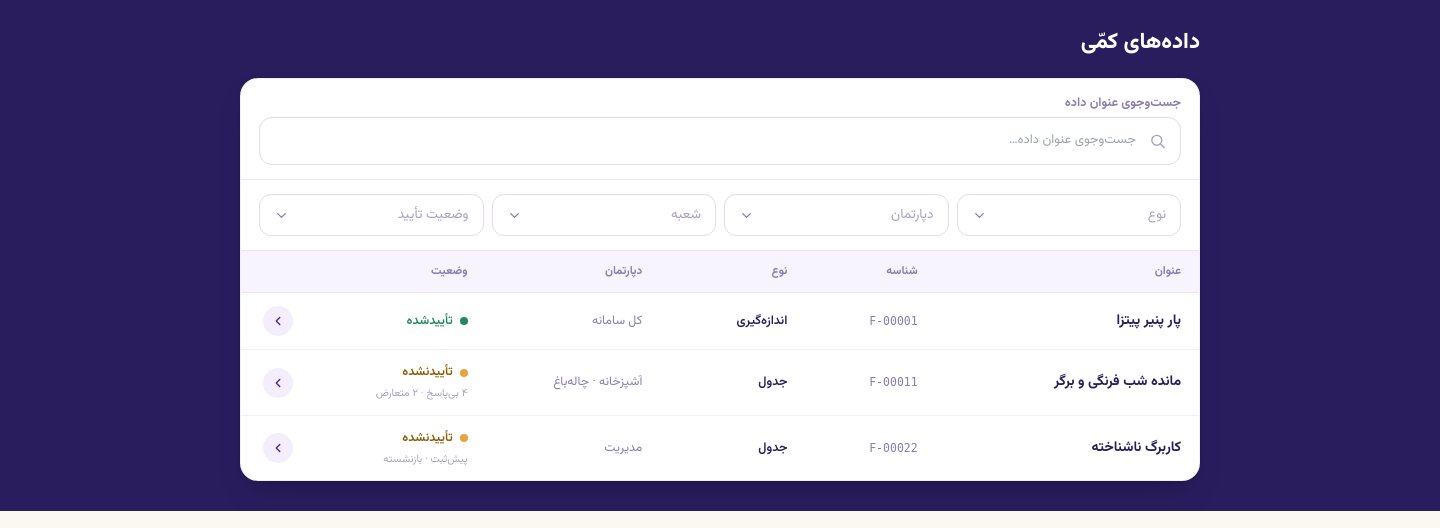
the filters › offers the four kinds and no item — the store has none since 2026-09-16
Step 1. Click the button "نوع" → (1069, 215), box [956,194,1181,236]
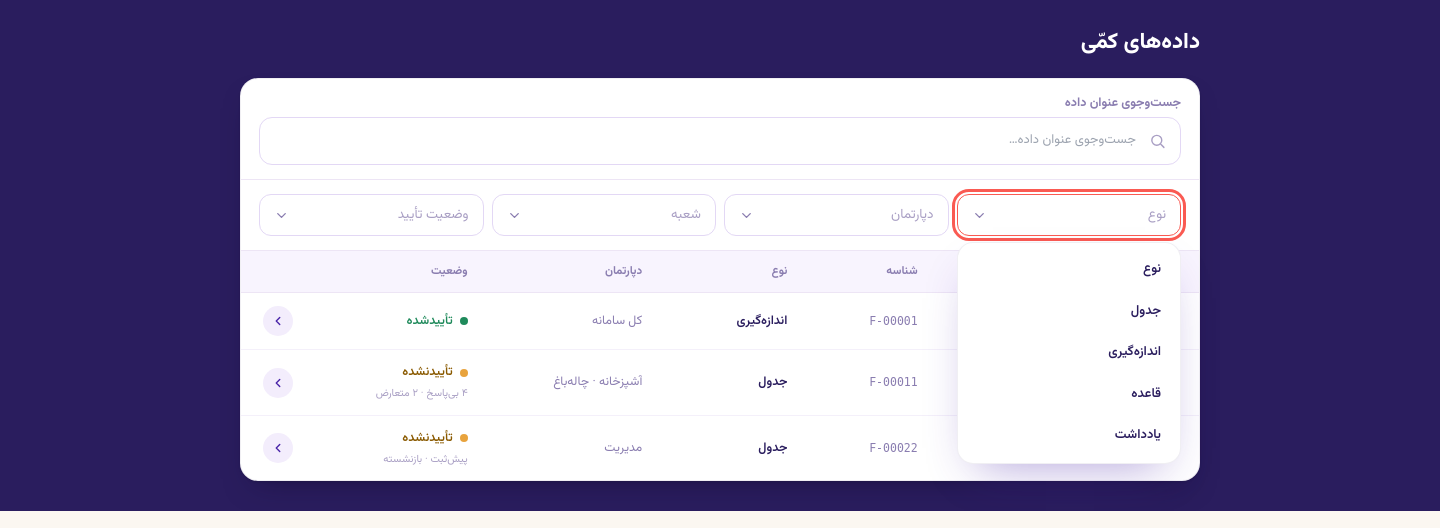
Expected: the options read "نوع", "جدول", "اندازه‌گیری", "قاعده", "یادداشت", in this order, [964,250,1173,290]; [964,292,1173,331]; [964,333,1173,373]; [964,375,1173,414]; [964,416,1173,456]
